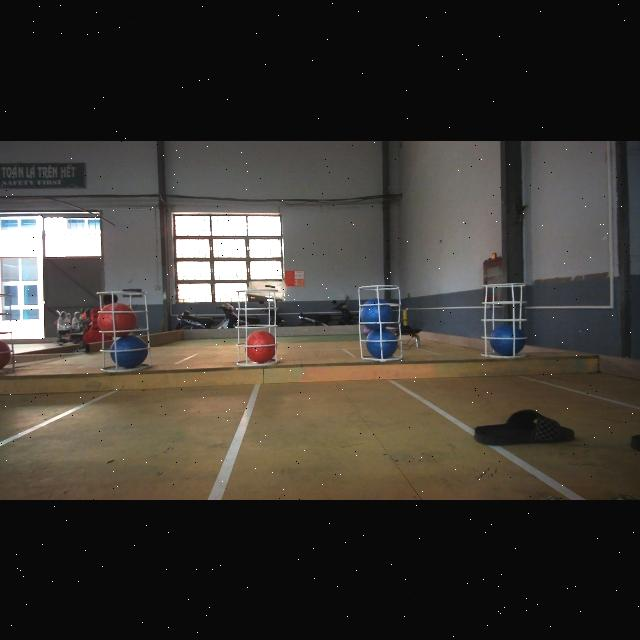B: (110, 335, 150, 367), (490, 325, 526, 357), (364, 328, 398, 359), (361, 298, 394, 328)
R: (99, 302, 138, 336), (246, 330, 276, 362), (0, 338, 12, 370)
